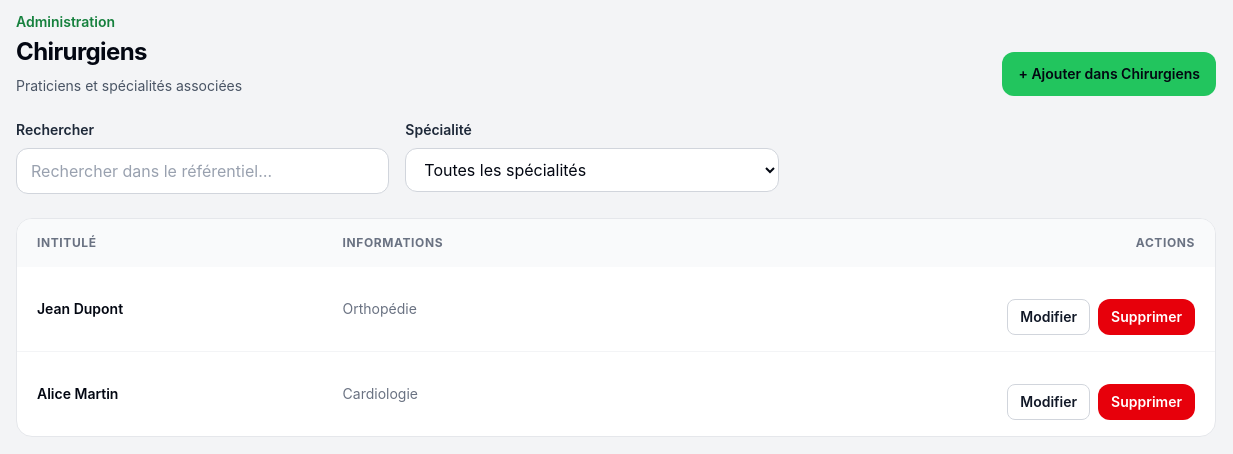
AdminListView speciality filter › shows only surgeons belonging to the selected speciality
Select "Orthopédie" in the dropdown labelled "Spécialité". click: x=592, y=170
box: [405,148,779,192]
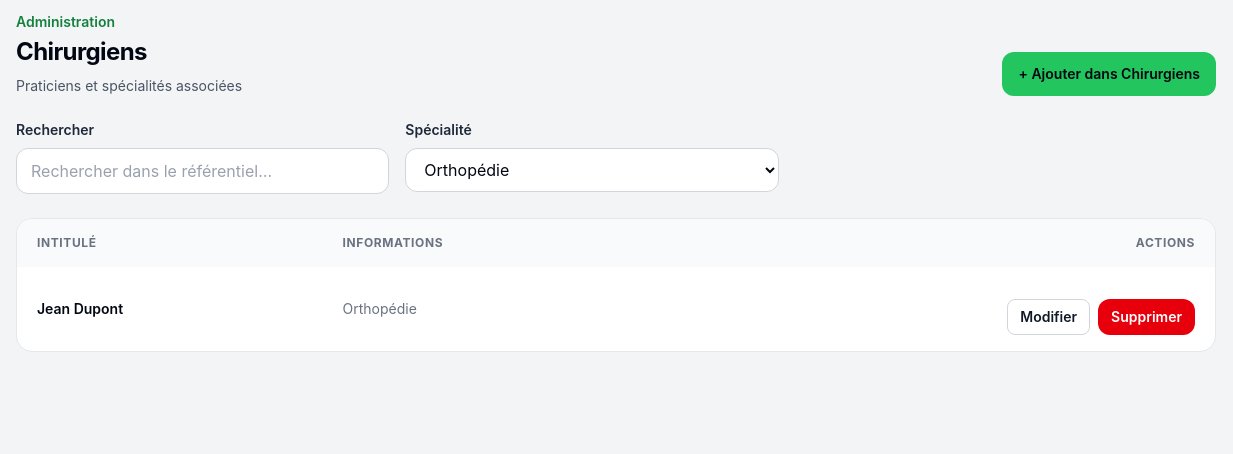
Expected: the text "Jean Dupont" is shown, [17,267,322,351]
Result: the text "Alice Martin" is gone
